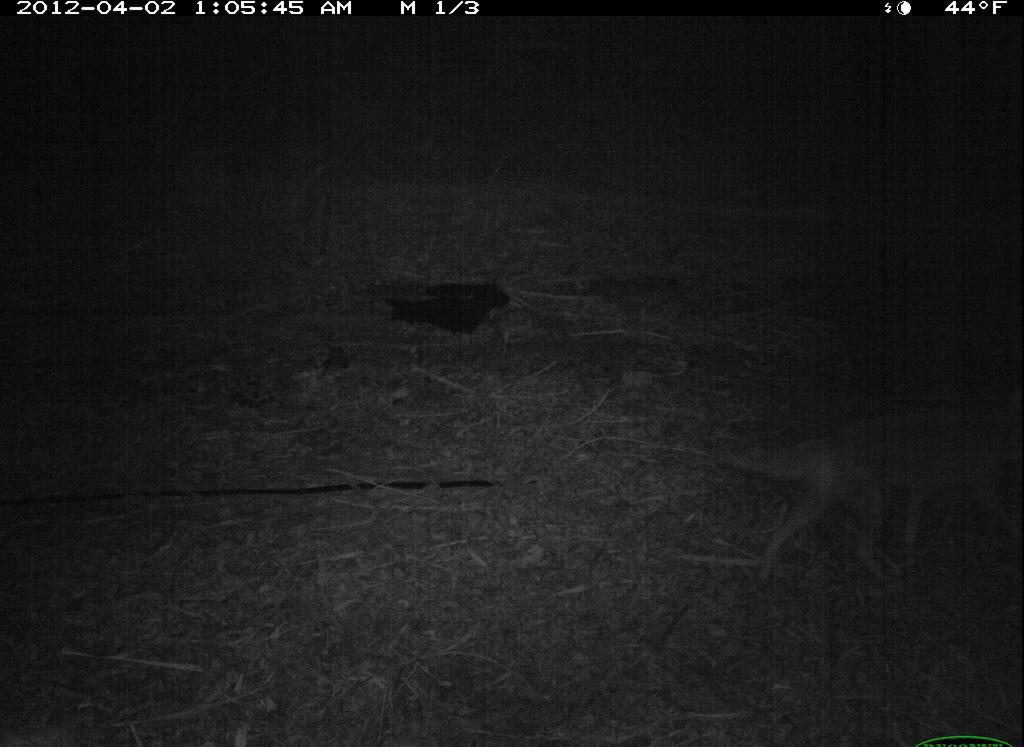coyote: (702, 402, 1021, 593)
